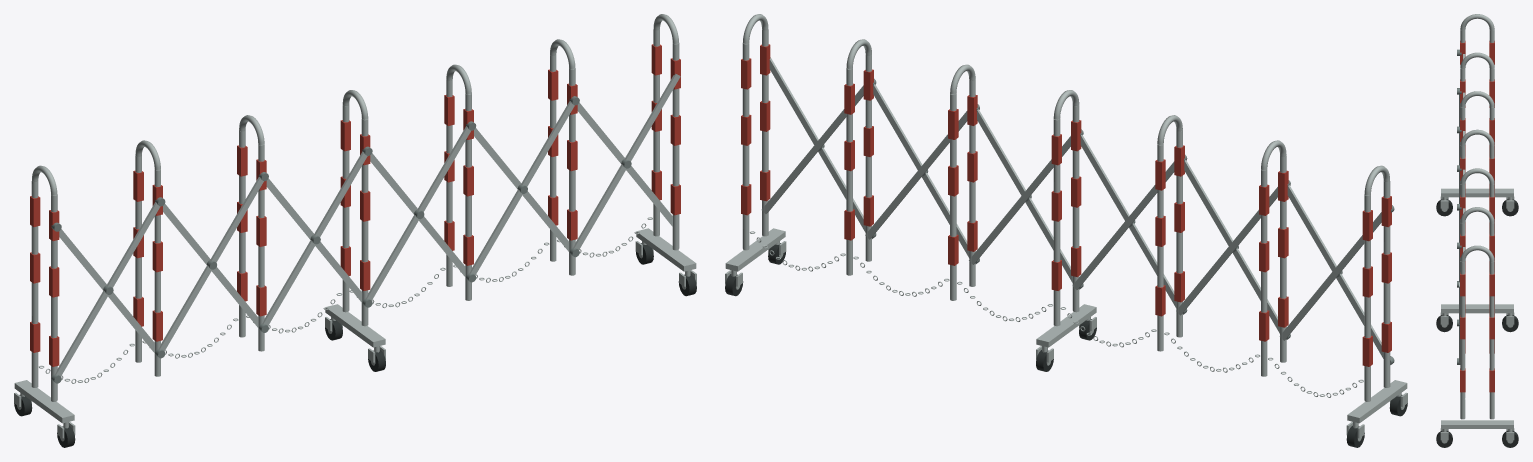
The model's file is barrier-approved-v1.glb.
3 views of the same model, side by side, from view 1: azimuth 30°, elevation 25°; view 2: azimuth 150°, elevation 25°; view 3: azimuth 270°, elevation 25° (orthographic). The views are drawn at different scales.
Visible parts, largest first — view 1: 은색 접이식 바리케이드; view 2: 은색 접이식 바리케이드; view 3: 은색 접이식 바리케이드.
Part boxes in pixels (x1,y1,x2,y2): 은색 접이식 바리케이드: [14, 14, 696, 447]; 은색 접이식 바리케이드: [725, 14, 1407, 447]; 은색 접이식 바리케이드: [1436, 14, 1518, 447].
Bounding box in the file's own units: 3.06 × 1.21 × 0.45.
